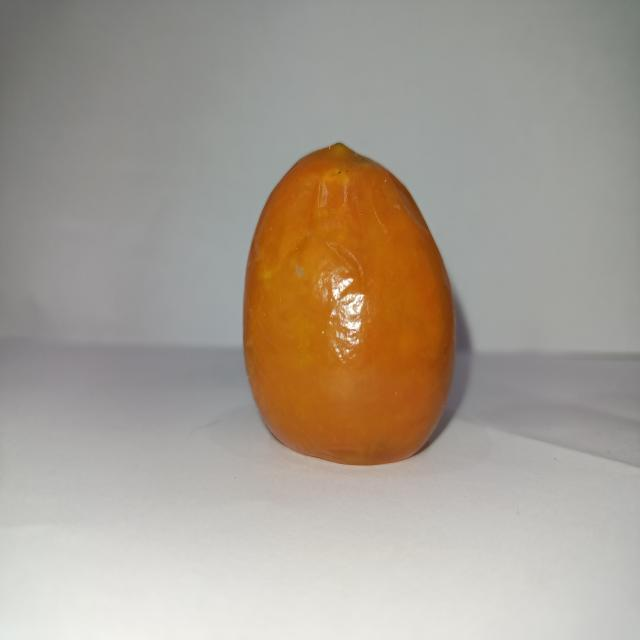Red: (241, 140, 456, 466)
